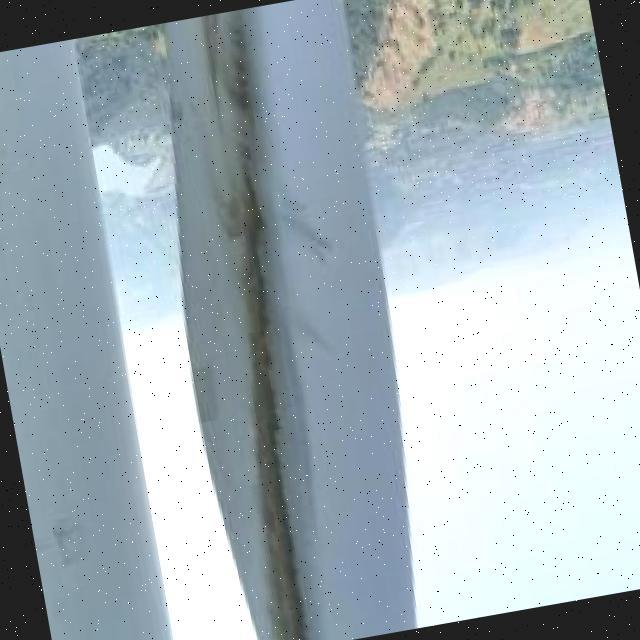Dirt: (195, 9, 340, 640)
